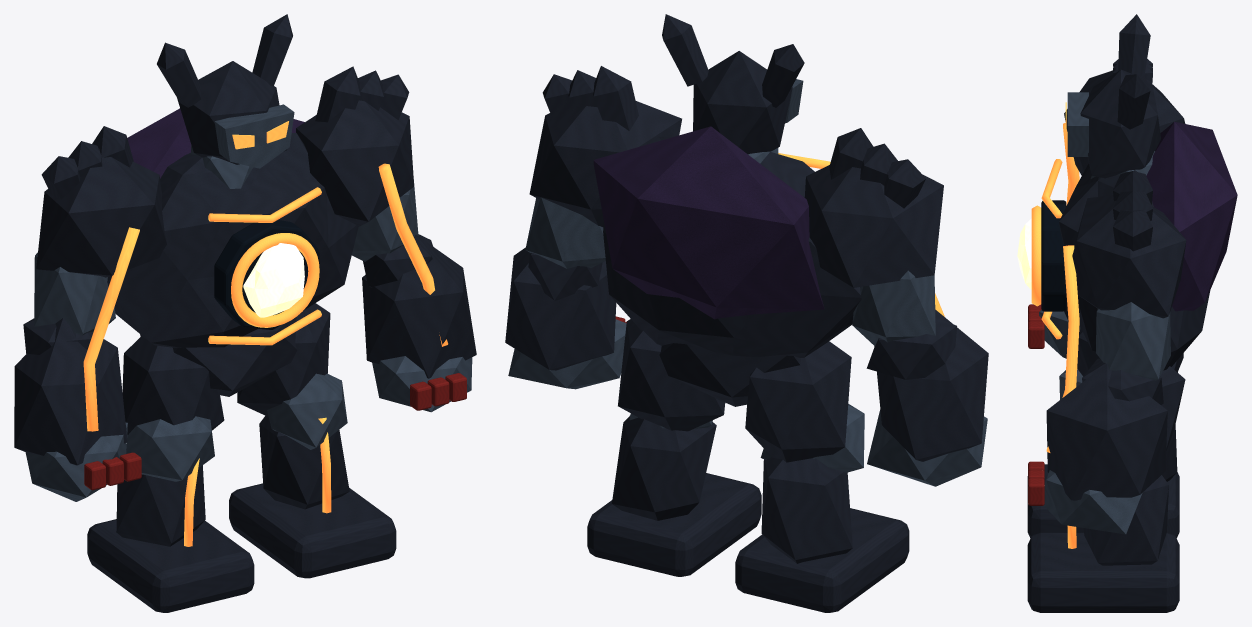
The model's file is Boss_StarcoreGuardian.fbx.
The picture shows the model from 3 angles, left to right: view 1: azimuth 30°, elevation 25°; view 2: azimuth 150°, elevation 25°; view 3: azimuth 270°, elevation 25°; orthographic projection. The views are drawn at different scales.
Parts seen in each view (by area): view 1: SM_Boss_StarcoreGuardian; view 2: SM_Boss_StarcoreGuardian; view 3: SM_Boss_StarcoreGuardian.
Boxes of the visible parts, x1,y1,x2,y2 form: SM_Boss_StarcoreGuardian: (14, 14, 476, 612); SM_Boss_StarcoreGuardian: (505, 14, 988, 612); SM_Boss_StarcoreGuardian: (1017, 14, 1237, 612).
Size of the model in its own units: 558 by 239 by 620.
Materials: 1 (1 with a texture image).
